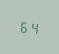four: (29, 20, 38, 34)
six: (19, 19, 28, 33)
